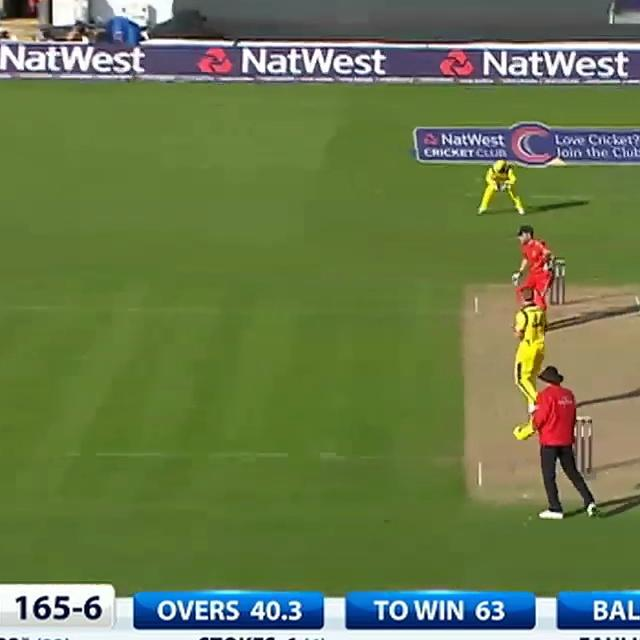umpire: (512, 360, 602, 523)
